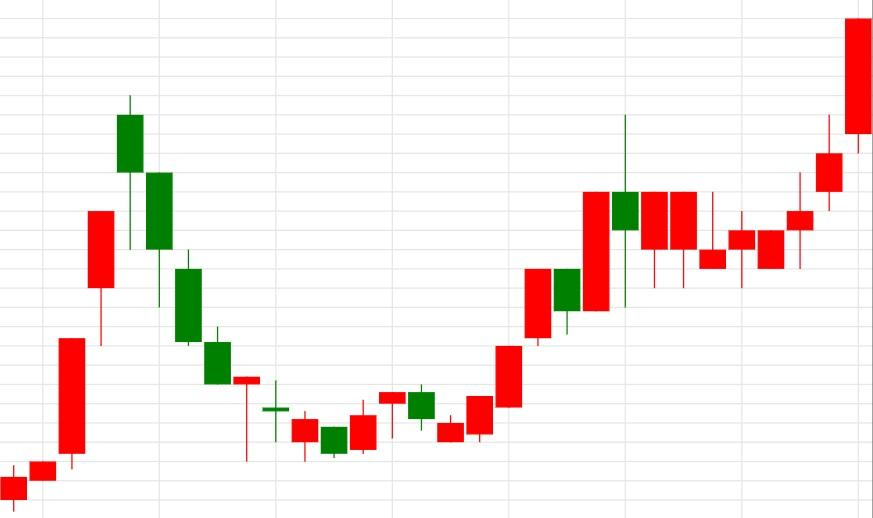inverse_hammer_rise: (611, 115, 727, 309)
three_black_crows_fall: (0, 95, 203, 512)
